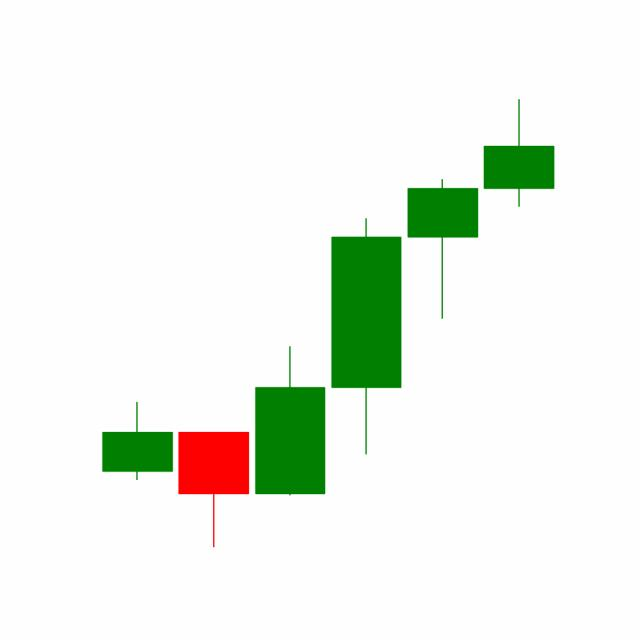Hanging Man: (403, 177, 481, 321)
